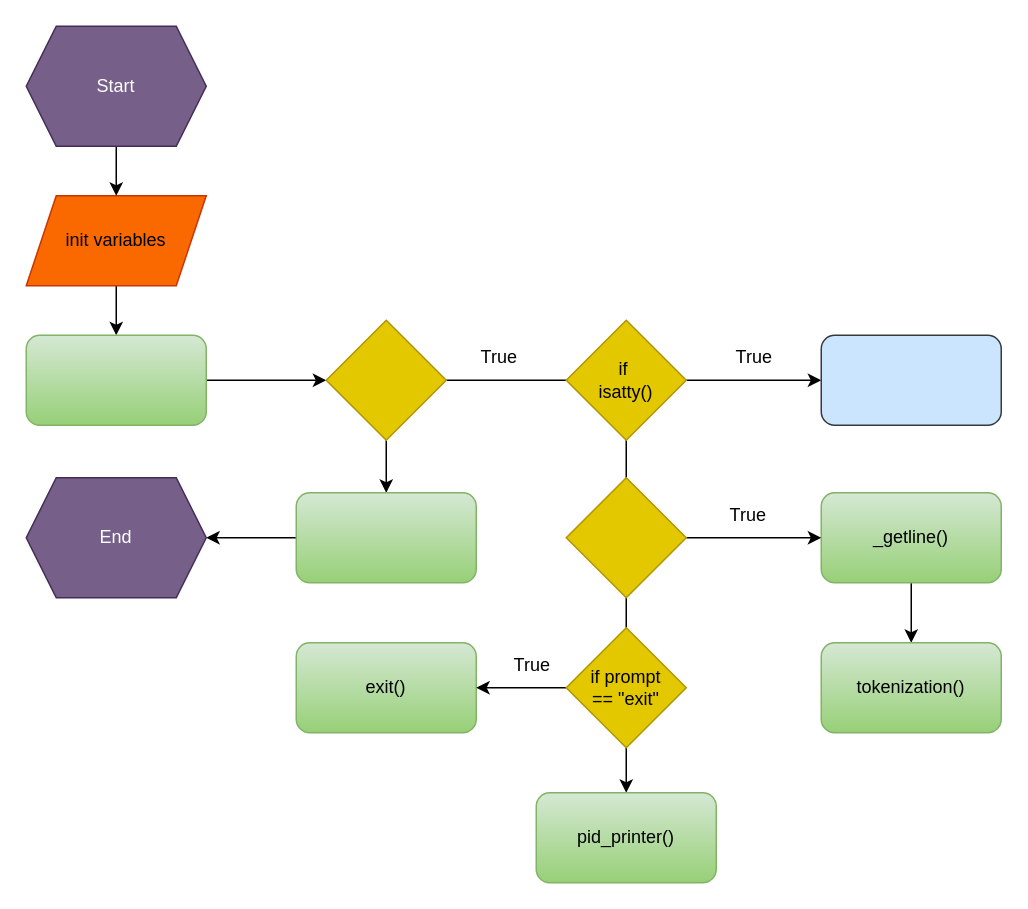
Some shapes in this 1028 by 909 pixel diagram are drawn without their labels. The shapes that lost their labels are listed below. From the top down, each one's box as (x1, y1, x2, y2) in pixels, then its label:
(25, 334, 206, 425): pathfinder();
(325, 319, 446, 440): while (1)
(820, 334, 1001, 425): write prompt
(295, 491, 476, 583): free_array()
(565, 476, 686, 598): if input prompt
